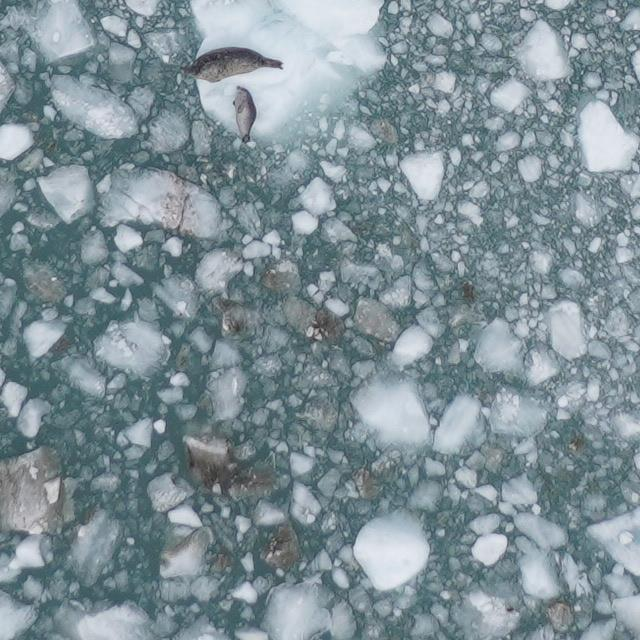seal: (178, 46, 288, 87), (229, 84, 259, 147)
